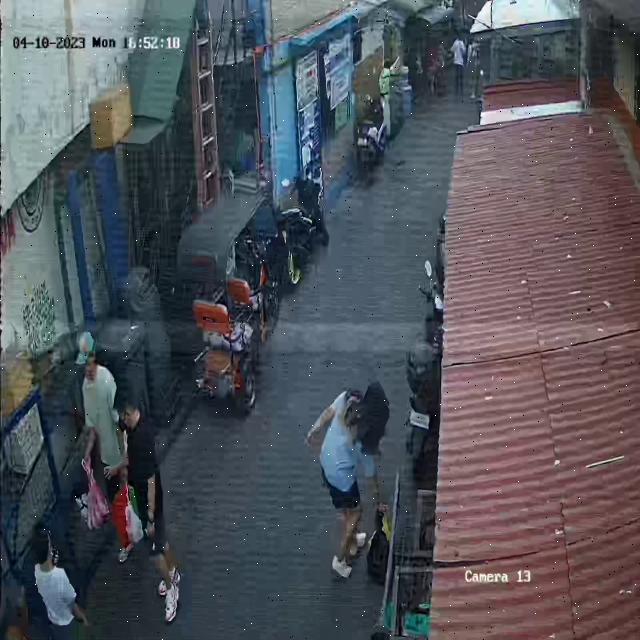garbage_dumping: (362, 496, 393, 590), (110, 473, 145, 547), (75, 455, 107, 531)
